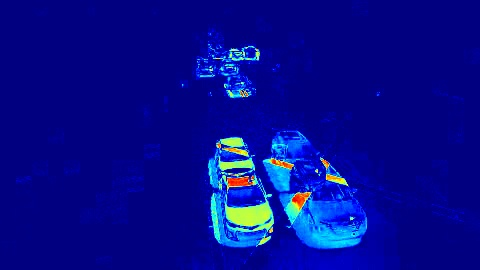vehicle: (282, 138, 354, 246), (211, 142, 260, 243), (223, 63, 246, 104)
